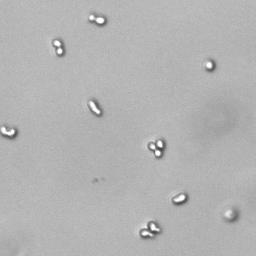budding: (146, 139, 164, 158), (85, 98, 102, 117), (51, 38, 64, 57), (86, 14, 106, 26), (1, 124, 17, 138)
cluster: (139, 219, 163, 241)
individual: (172, 191, 187, 204), (203, 59, 215, 72)
